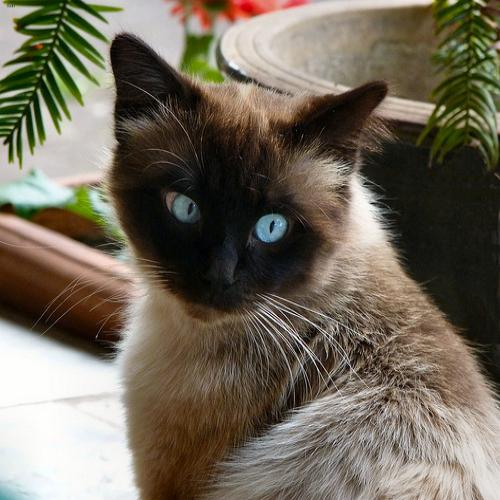siamese: (80, 15, 376, 328)
